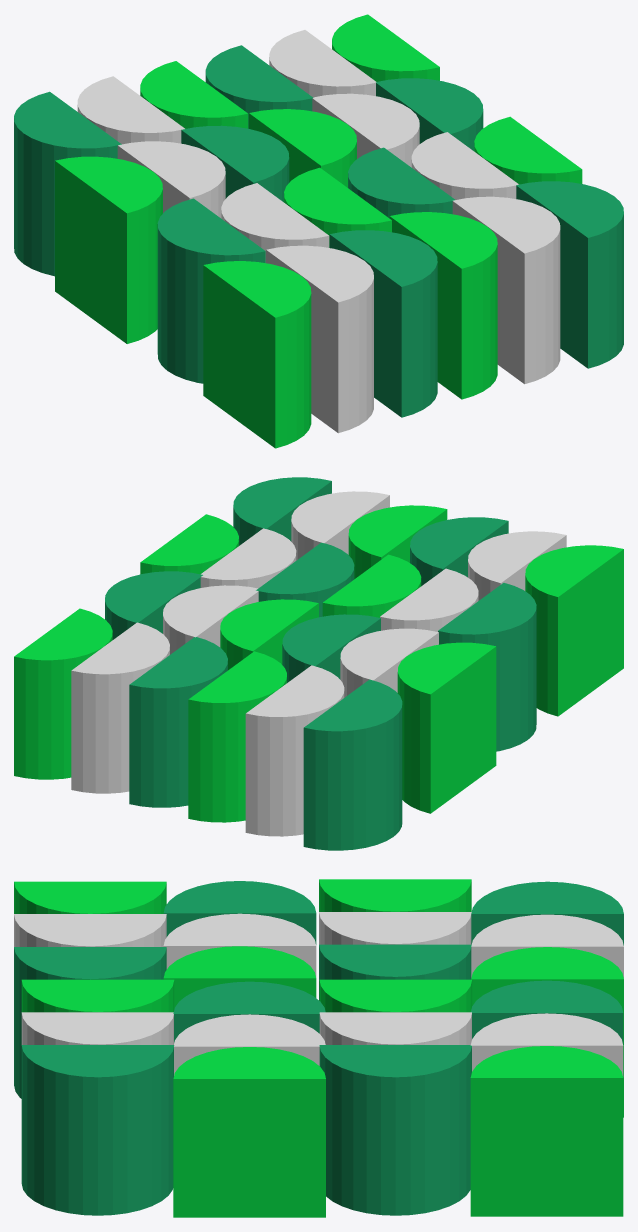
Rendered from Regularidad.fbx.
3 views of the same model, one above another, from view 1: azimuth 30°, elevation 25°; view 2: azimuth 150°, elevation 25°; view 3: azimuth 270°, elevation 25° (orthographic). The views are drawn at different scales.
Visible parts, largest first — view 1: Cylinder.009; view 2: Cylinder.009; view 3: Cylinder.009.
Boxes of the visible parts, left/top/right/bottom form: Cylinder.009: left=14, top=14, right=623, bottom=448; Cylinder.009: left=14, top=477, right=623, bottom=850; Cylinder.009: left=14, top=879, right=623, bottom=1217.
Size of the model in its own units: 309 by 100 by 399.
